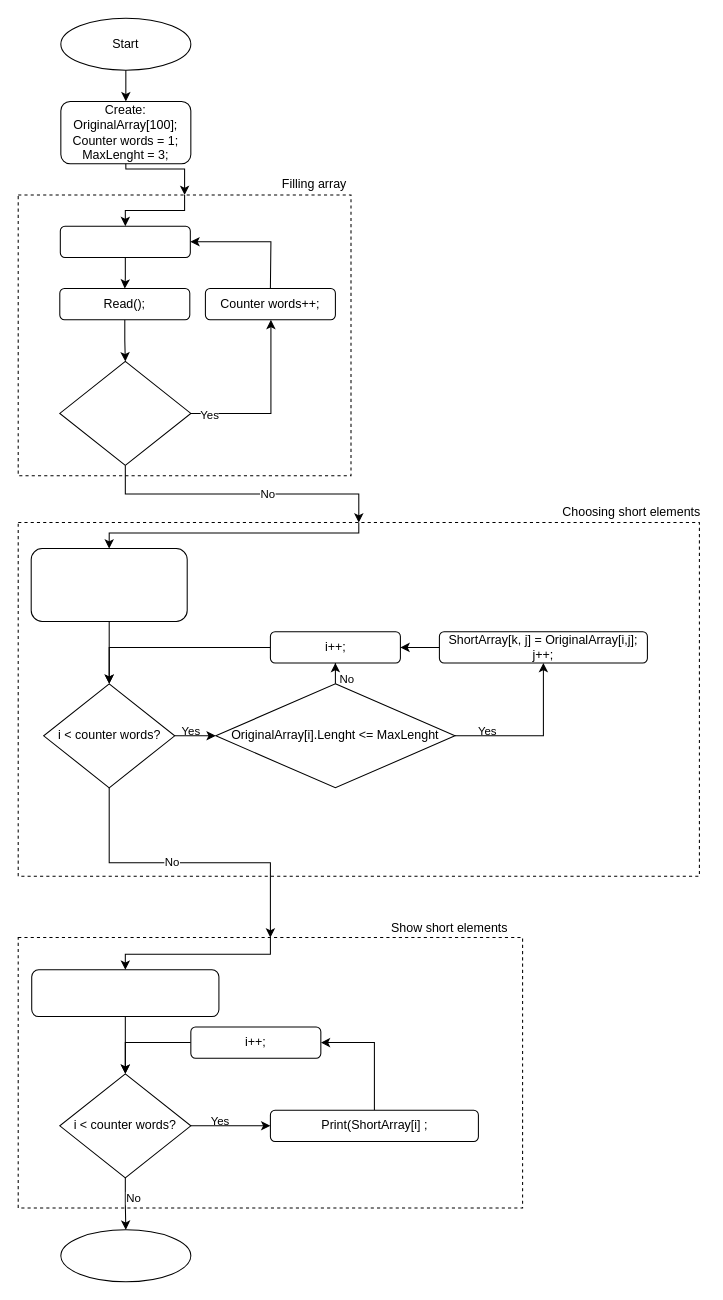
Some shapes in this 723 by 1300 pixel diagram are drawn without their labels. The shapes that lost their labels are listed below. From the top down, each one's centre as x and y in pixels, then its label:
(x=124, y=241): Print("Fill numbers")
(x=125, y=412): Continue filling OriginalArray?
(x=108, y=584): Create: ShortArray[counter words]; i = 0; j = 0;
(x=125, y=993): Create: i = 0;
(x=125, y=1255): Finish
